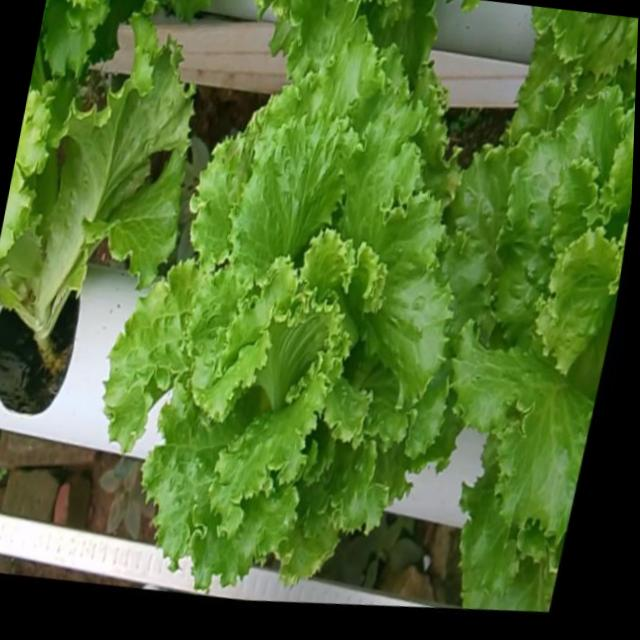Mature: (87, 39, 448, 592), (431, 89, 635, 550)
